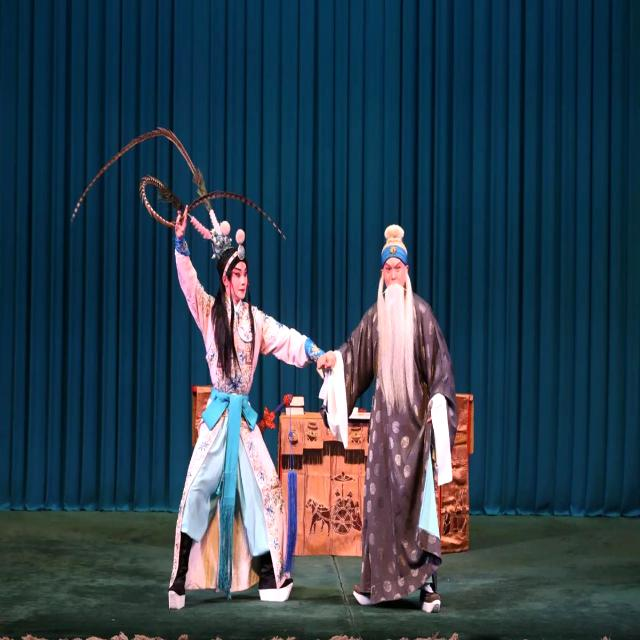Reeves-s Pheasant: (71, 128, 284, 237), (139, 175, 186, 227)
